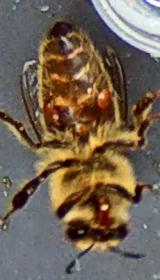varroa_mite: (84, 75, 136, 116), (28, 94, 67, 133)
